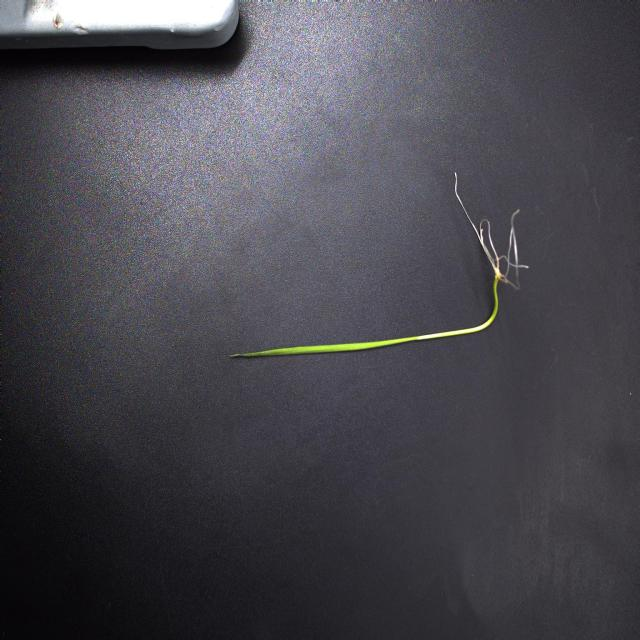leaf: (227, 337, 421, 358)
root: (454, 172, 530, 294)
stem: (417, 274, 500, 342)
